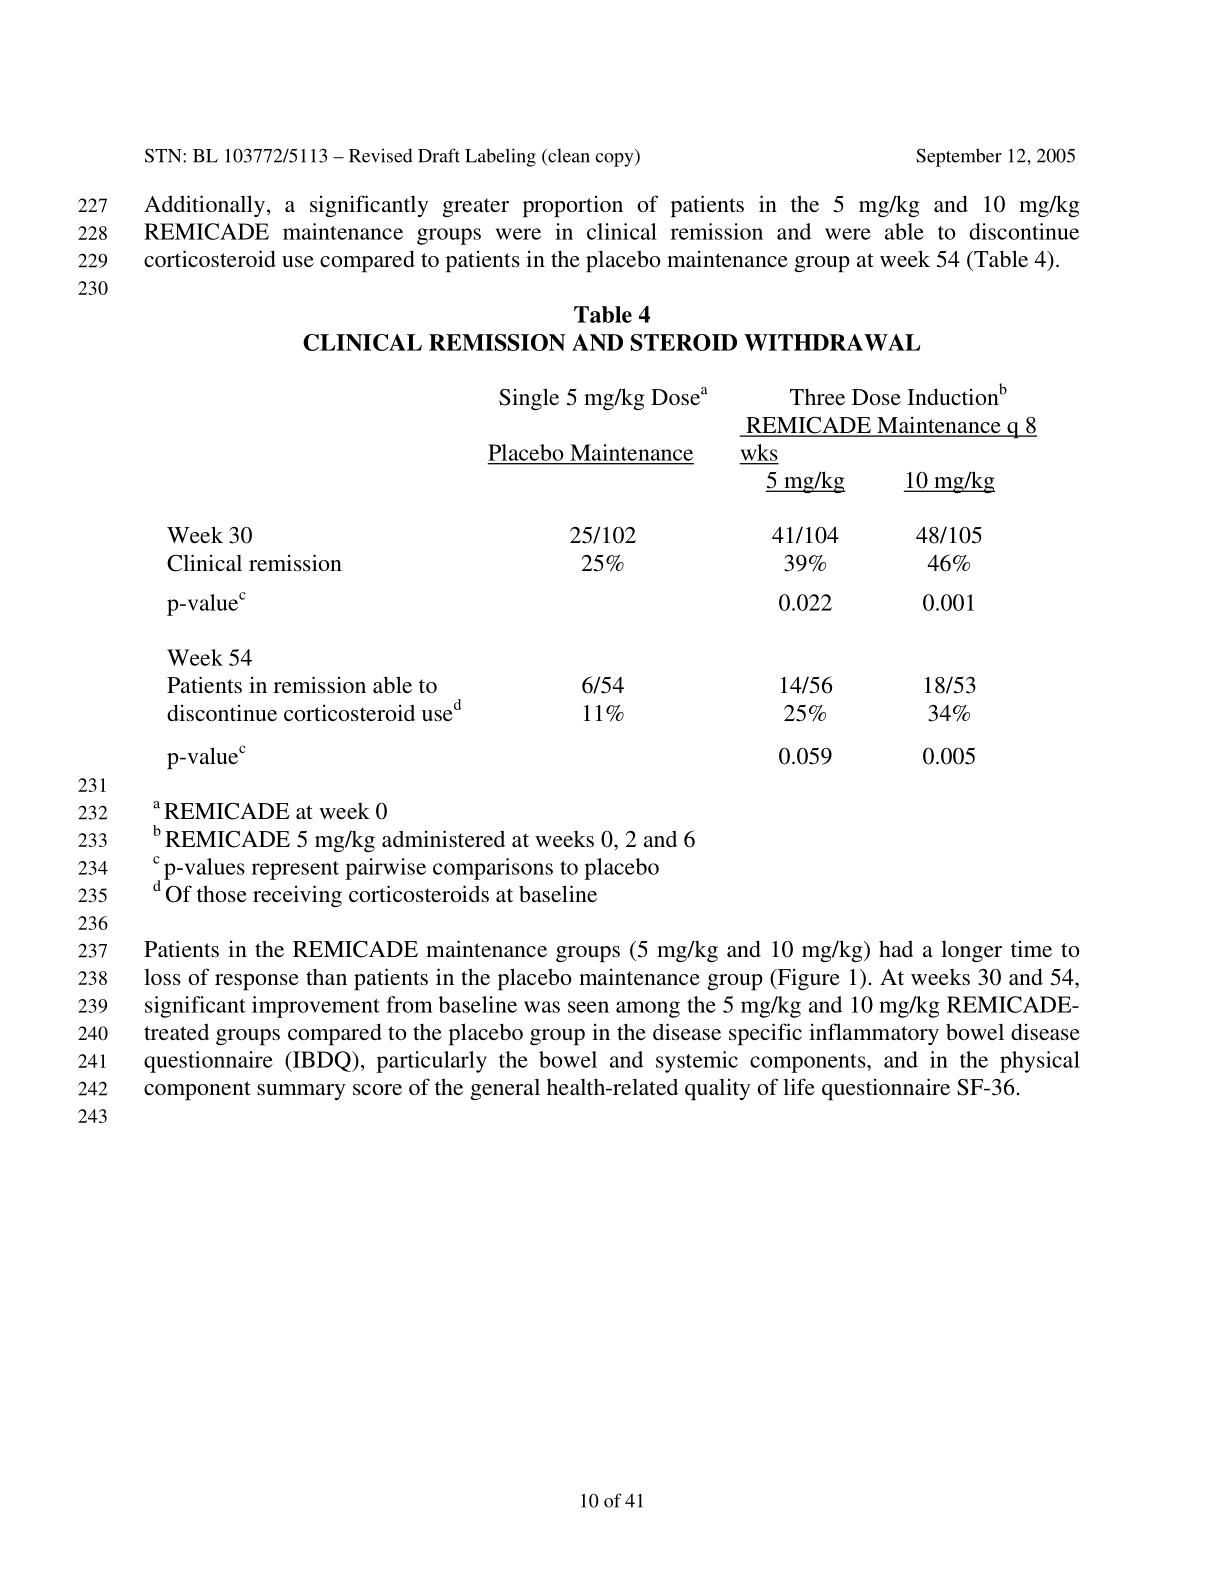nolines: (165, 381, 1038, 771)
